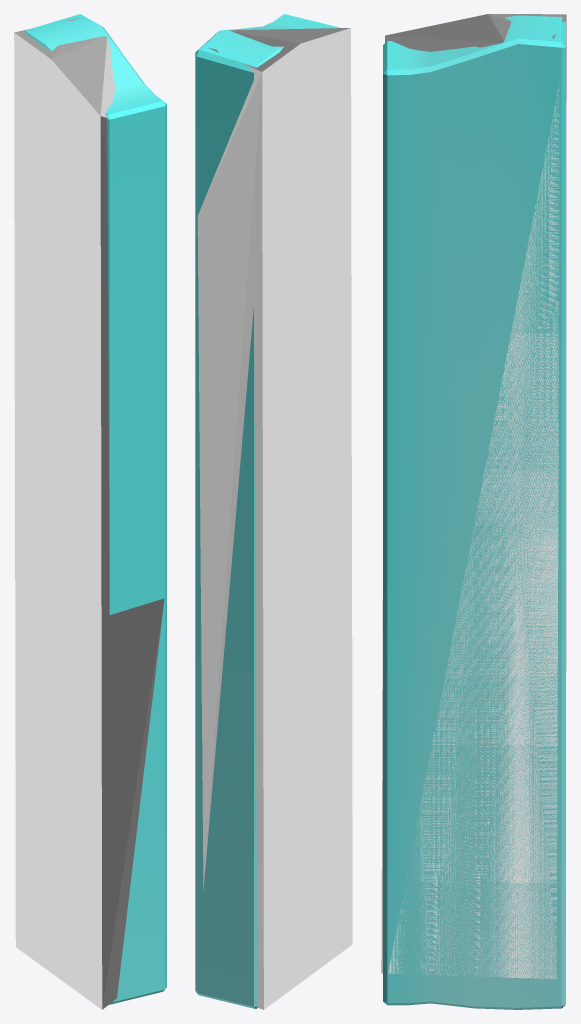
File: SM_WoodenPlanks_08_A.fbx
The picture shows the model from 3 angles, left to right: view 1: azimuth 30°, elevation 25°; view 2: azimuth 150°, elevation 25°; view 3: azimuth 270°, elevation 25°; orthographic projection. The views are drawn at different scales.
Parts seen in each view (by area): view 1: SM_WoodenPlanks_08_ConvexHulls, SM_WoodenPlanks_08_LOD0; view 2: SM_WoodenPlanks_08_ConvexHulls, SM_WoodenPlanks_08_LOD0; view 3: SM_WoodenPlanks_08_LOD0, SM_WoodenPlanks_08_ConvexHulls.
Part boxes in pixels (left/top/right/bottom): SM_WoodenPlanks_08_ConvexHulls: left=14, top=17, right=164, bottom=1009; SM_WoodenPlanks_08_LOD0: left=24, top=14, right=166, bottom=1004; SM_WoodenPlanks_08_ConvexHulls: left=197, top=28, right=352, bottom=1009; SM_WoodenPlanks_08_LOD0: left=195, top=14, right=340, bottom=1008; SM_WoodenPlanks_08_LOD0: left=383, top=15, right=565, bottom=1009; SM_WoodenPlanks_08_ConvexHulls: left=381, top=14, right=566, bottom=979.
Size of the model in its own units: 17.01 by 38.53 by 224.
